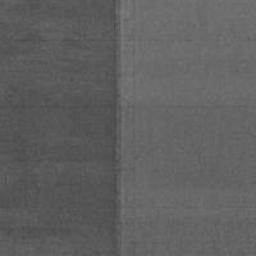Welding line: (111, 0, 123, 256)
